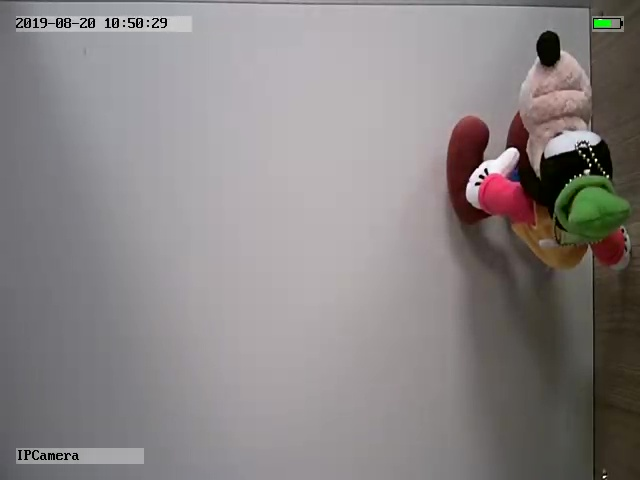goofy: (444, 29, 632, 273)
